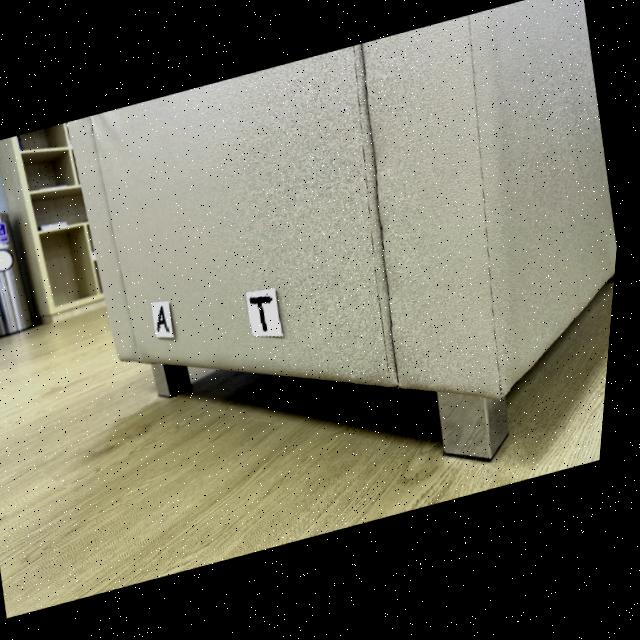A: (163, 309, 174, 334)
T: (255, 299, 277, 334)
